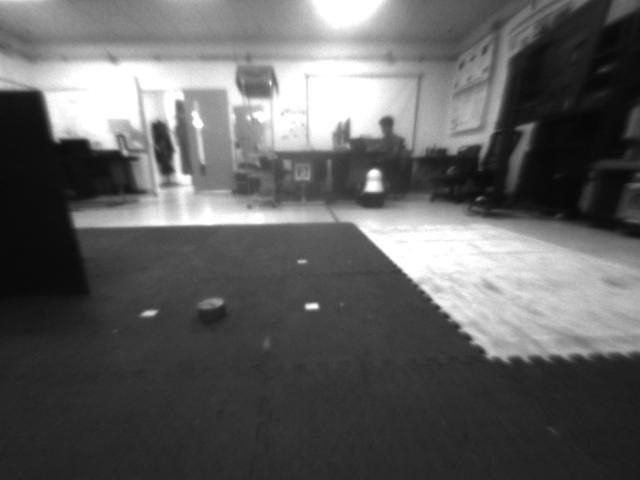dogtoy: (178, 292, 242, 324)
